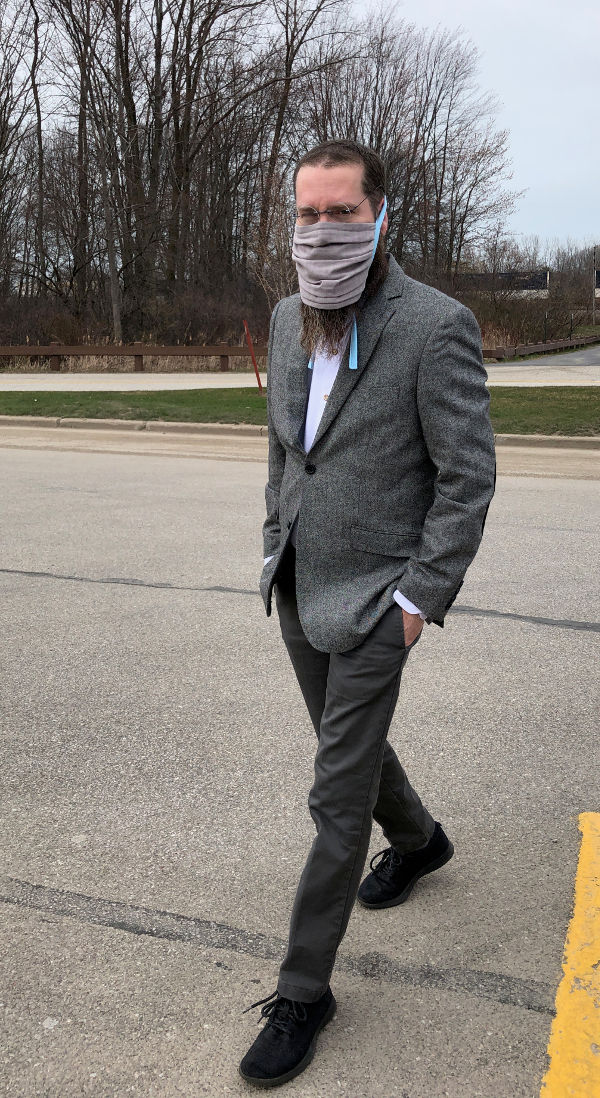with_mask: (266, 153, 398, 281)
